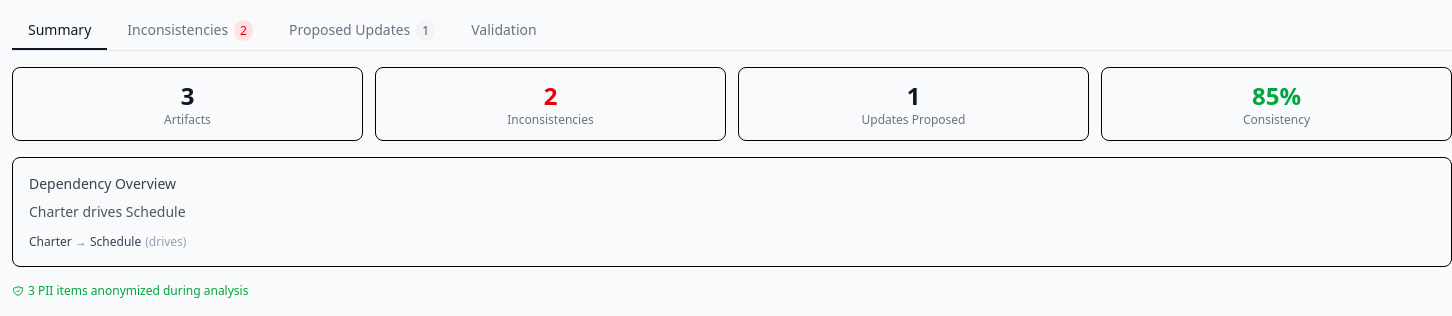
Test: DeepStrategyResults › switches to Inconsistencies tab
Click the button "Inconsistencies2".
click(190, 31)  # box [111,12,269,50]
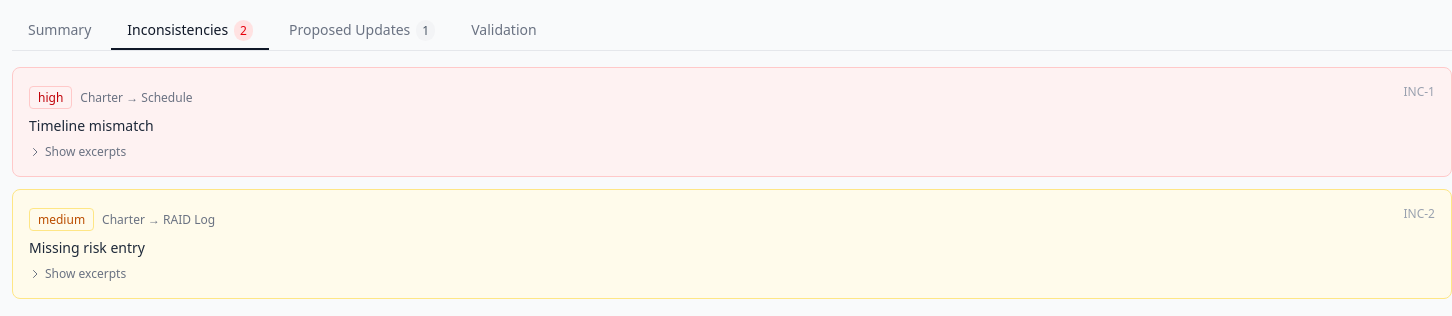
Expected: the text "Timeline mismatch" is shown, [29,116,154,135]
Expected: the text "Missing risk entry" is shown, [29,238,145,257]
